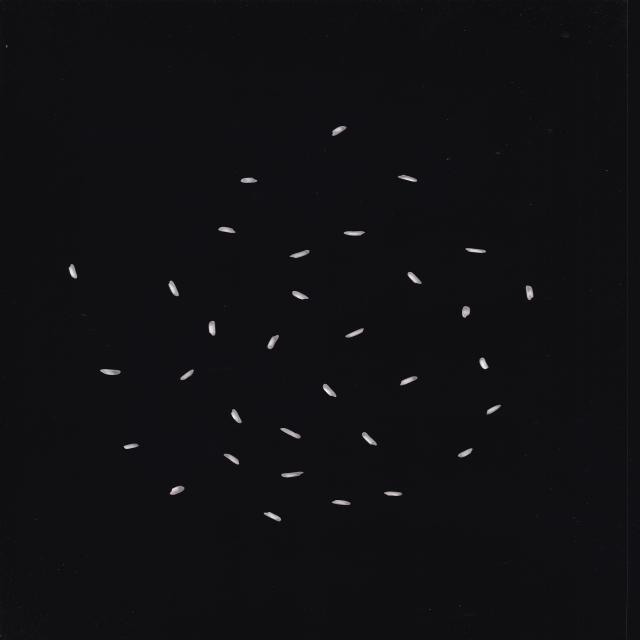Chalky: (280, 428, 302, 439), (322, 383, 337, 398), (362, 432, 378, 446), (266, 334, 280, 350), (263, 512, 282, 523), (222, 453, 239, 465), (167, 280, 179, 297), (345, 328, 364, 338), (407, 272, 422, 284), (400, 376, 418, 386), (100, 368, 122, 376), (292, 290, 309, 300), (289, 250, 310, 258), (280, 471, 304, 478), (180, 369, 194, 381), (231, 409, 242, 424), (331, 126, 347, 136), (457, 448, 473, 458), (169, 485, 185, 495), (486, 404, 501, 414), (68, 264, 78, 279), (218, 226, 236, 234), (525, 285, 534, 301), (398, 175, 418, 182), (479, 357, 489, 370), (208, 321, 216, 336), (461, 306, 471, 318), (123, 443, 139, 450), (343, 231, 365, 236), (240, 178, 258, 184), (465, 248, 486, 253), (332, 500, 352, 505), (383, 492, 402, 497)
